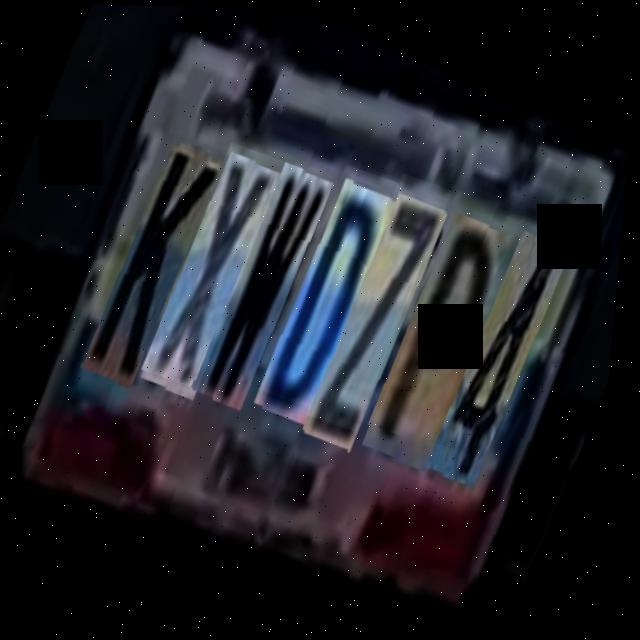4: (439, 201, 580, 458)
D: (262, 160, 403, 408)
K: (85, 129, 227, 380)
P: (373, 184, 530, 446)
W: (198, 145, 339, 397)
X: (146, 139, 289, 388)
Z: (312, 167, 456, 431)
